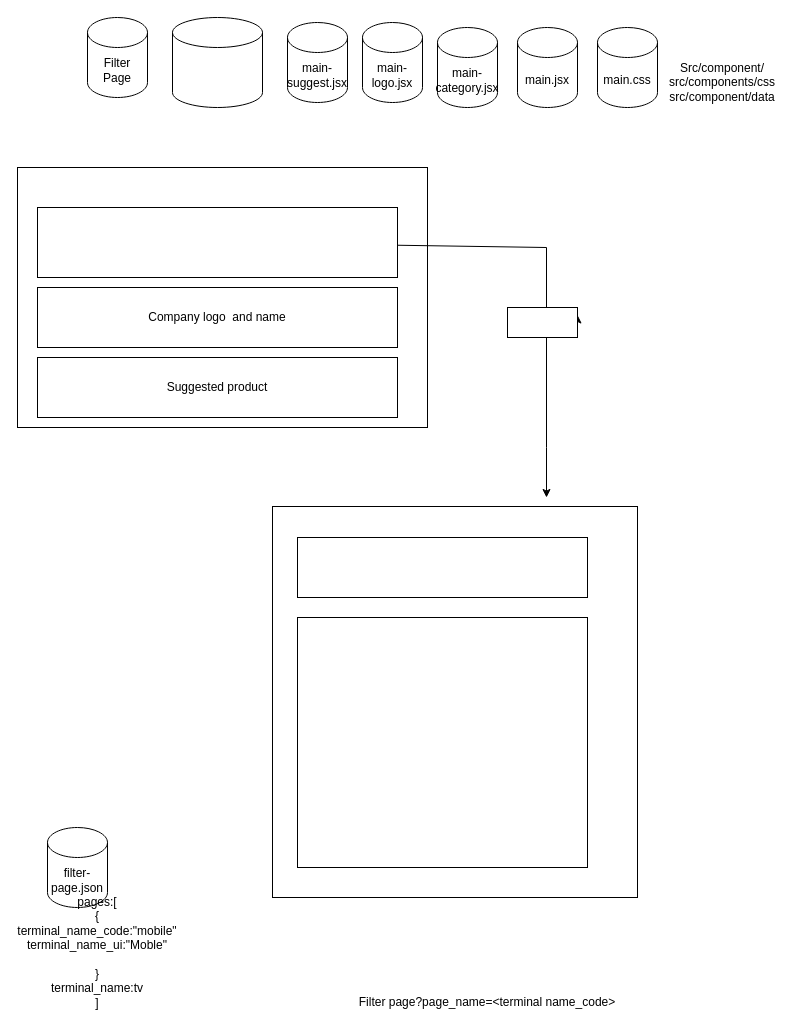
The diagram is 793 pixels wide and 1035 high, and some of its shapes have lost their labels. The shapes that lost their labels are listed below. From the top down, each one's centre as x and y in pixels, then its label:
At point (217, 62): "categories.json".
At point (217, 242): "Category section with dropdown on hover".
At point (542, 322): "On click".
At point (442, 567): "terminalname_Ui Filter Section".
At point (442, 742): "Can be developed later if given chance".
